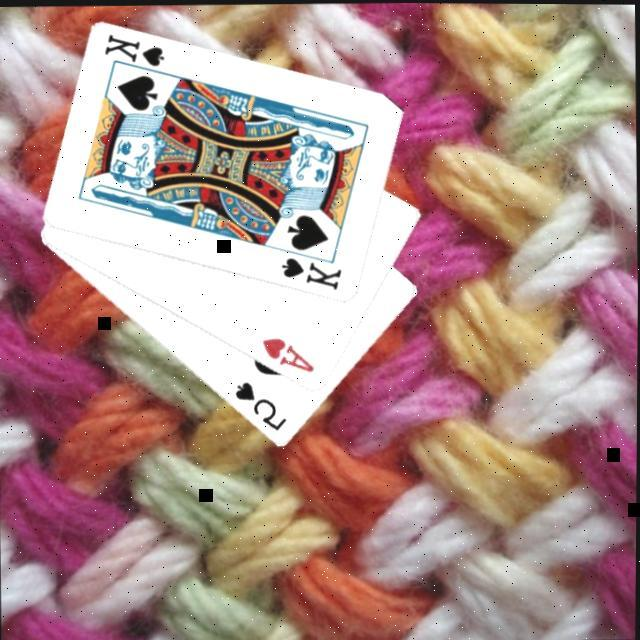5S: (232, 378, 291, 435)
AH: (260, 334, 320, 377)
KS: (103, 31, 172, 80), (280, 253, 347, 294)
